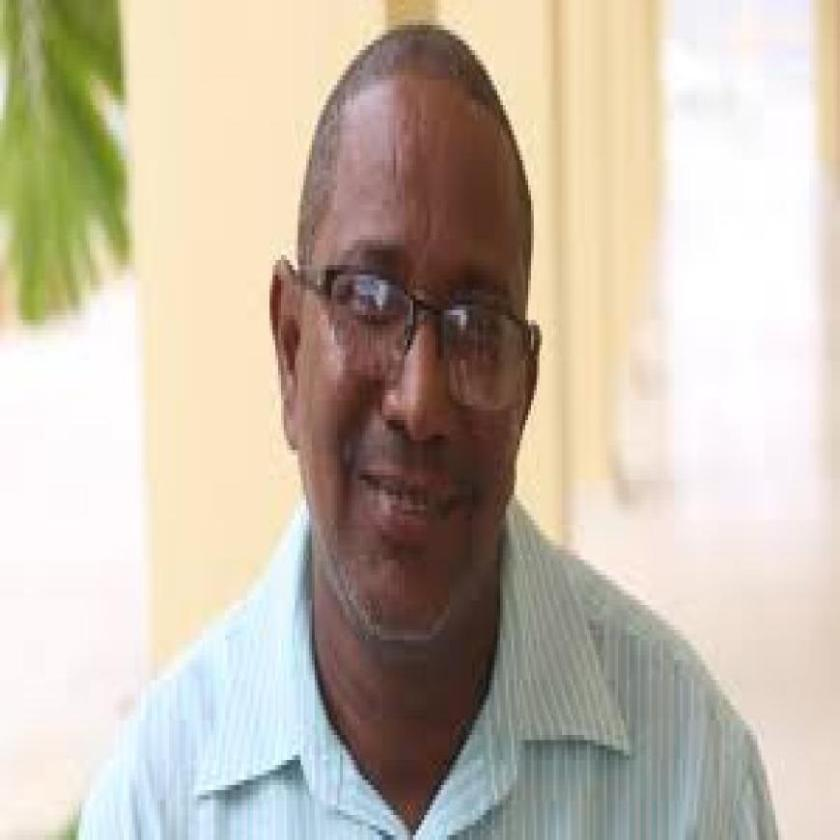Sin_casco: (270, 10, 561, 672)
